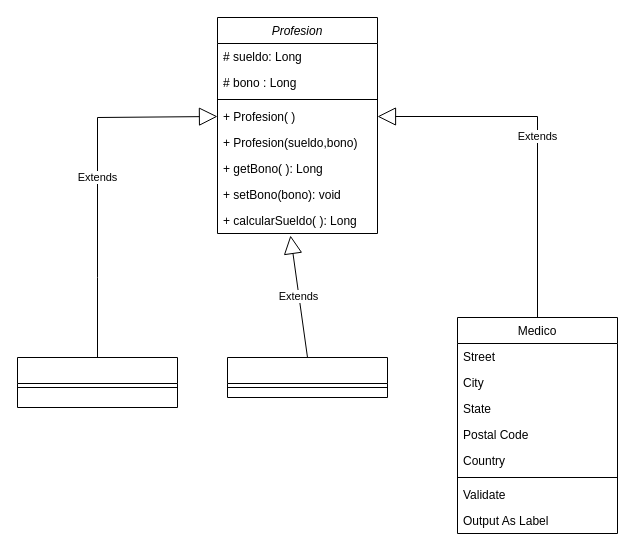
The diagram is 635 pixels wide and 554 high, and some of its shapes have lost their labels. The centre of each missing label's shape, as x and y in pixels:
Arquitecto: the point at 307,377
Ingeniero: the point at 97,382
